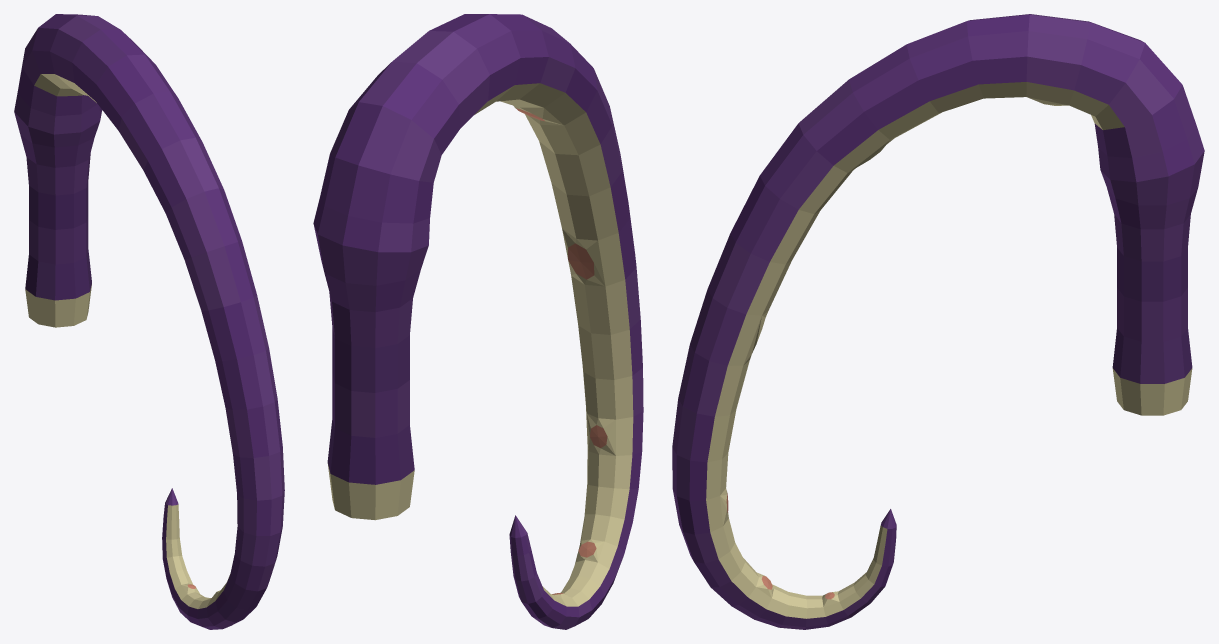
File: Kraken_Whip.glb
3 views of the same model, side by side, from view 1: azimuth 30°, elevation 25°; view 2: azimuth 150°, elevation 25°; view 3: azimuth 270°, elevation 25° (orthographic). The views are drawn at different scales.
Parts seen in each view (by area): view 1: Kraken_Whip; view 2: Kraken_Whip; view 3: Kraken_Whip.
Part boxes in pixels (<box>): Kraken_Whip: <box>14,14,284,629</box>; Kraken_Whip: <box>313,14,643,629</box>; Kraken_Whip: <box>672,14,1204,629</box>.
Size of the model in its own units: 0.1395 by 0.9134 by 0.7206.
